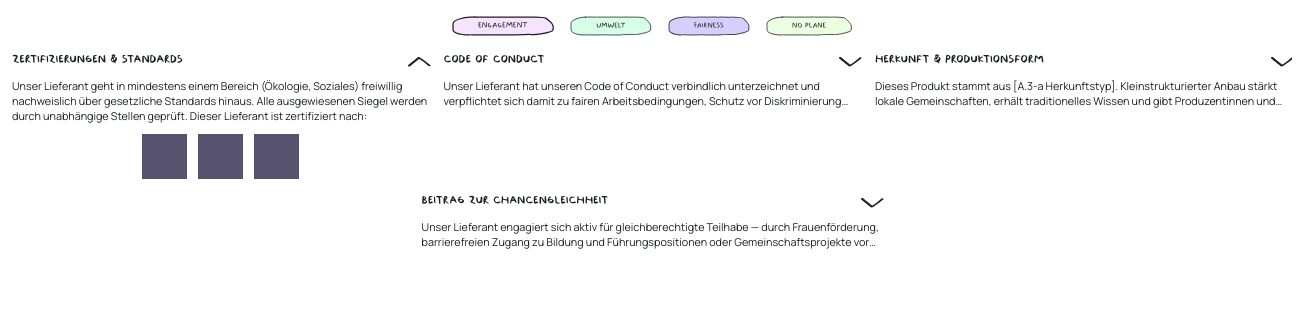
Test: SustainabilityTabs › zeigt Lieferantendaten und Ergänzungen erst im offenen Baustein, zeilenweise
Expected: the text "Frauenanteil: [A.4-b Frauenanteil]" is not shown
Click the button "Beitrag zur Chancengleichheit" at (515, 201), box [422,194,882,212]
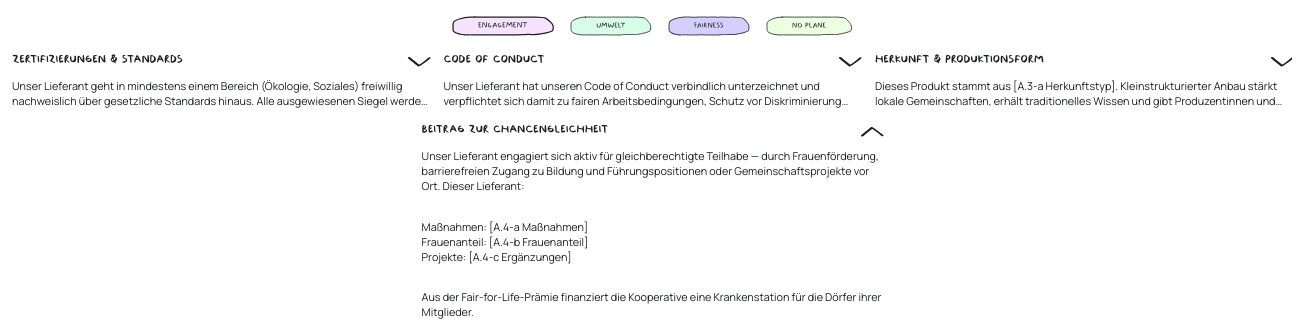
Expected: the button "Zertifizierungen & Standards" is shown, [12,53,429,71]
Expected: the text "Krankenstation" is shown, [422,289,881,319]
